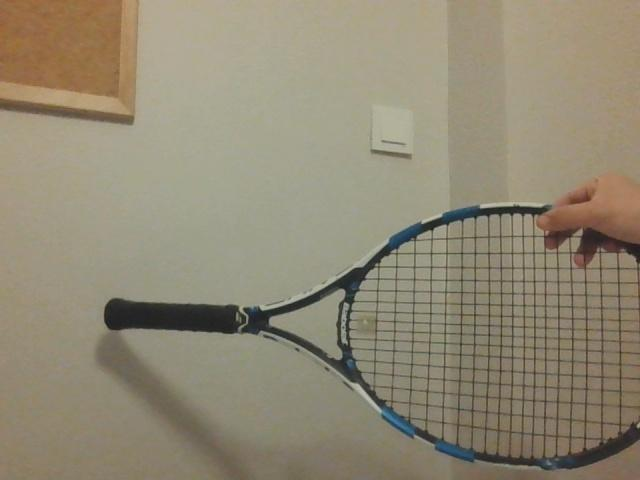Tennis-Racket: (114, 202, 640, 480)
